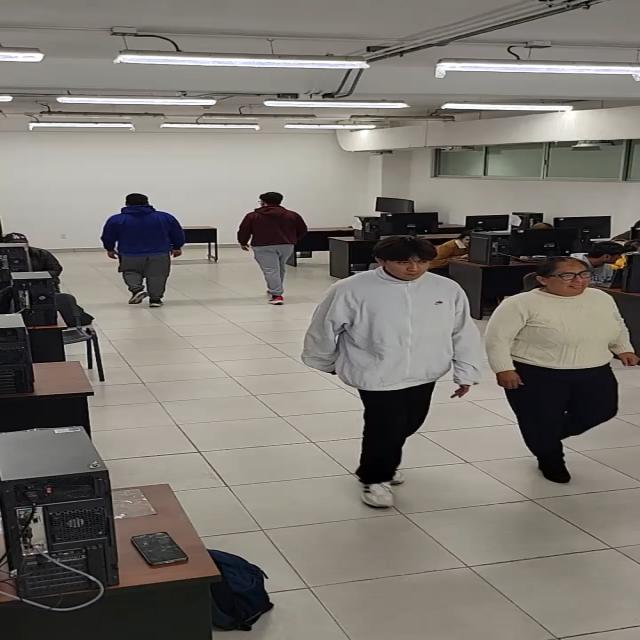Persona: (317, 233, 484, 505), (485, 256, 630, 482), (236, 190, 309, 306), (102, 192, 174, 308)
